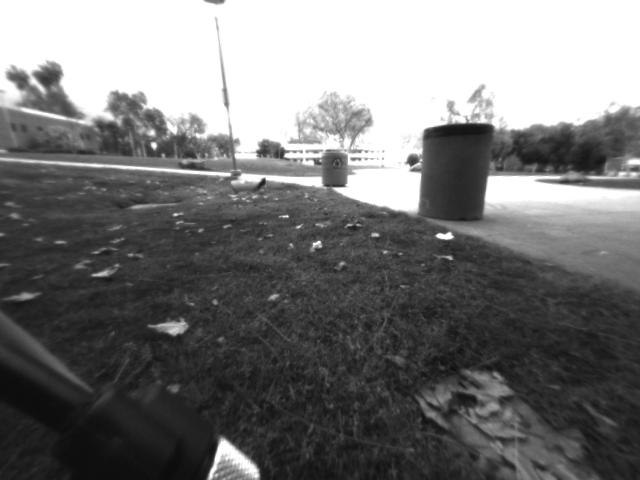trashcan: (414, 114, 499, 230), (317, 143, 352, 191)
